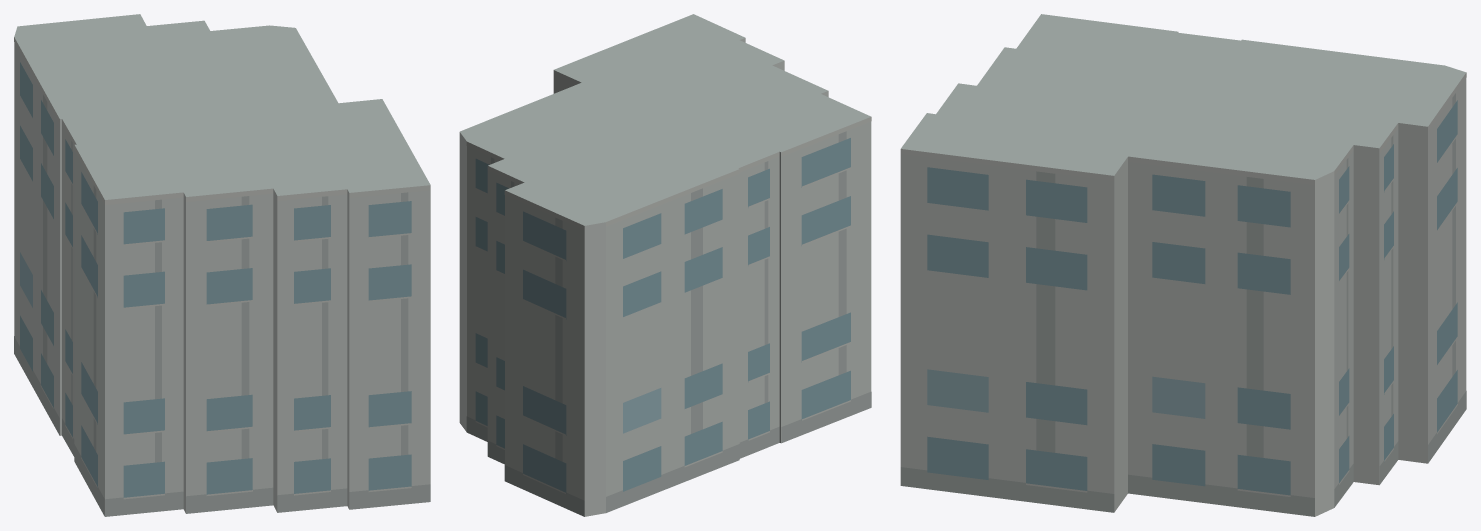
The model's file is survey-upis-32768984.glb.
3 renders of one model, left to right at view 1: azimuth 30°, elevation 25°; view 2: azimuth 150°, elevation 25°; view 3: azimuth 270°, elevation 25°, orthographic. The views are drawn at different scales.
Parts seen in each view (by area): view 1: survey-upis-32768984.tmp; view 2: survey-upis-32768984.tmp; view 3: survey-upis-32768984.tmp.
Part boxes in pixels (x1,y1,x2,y2): survey-upis-32768984.tmp: (14, 14, 430, 516); survey-upis-32768984.tmp: (459, 14, 871, 516); survey-upis-32768984.tmp: (900, 14, 1466, 516).
Bounding box in the file's own units: 16.06 × 15.2 × 23.14.
